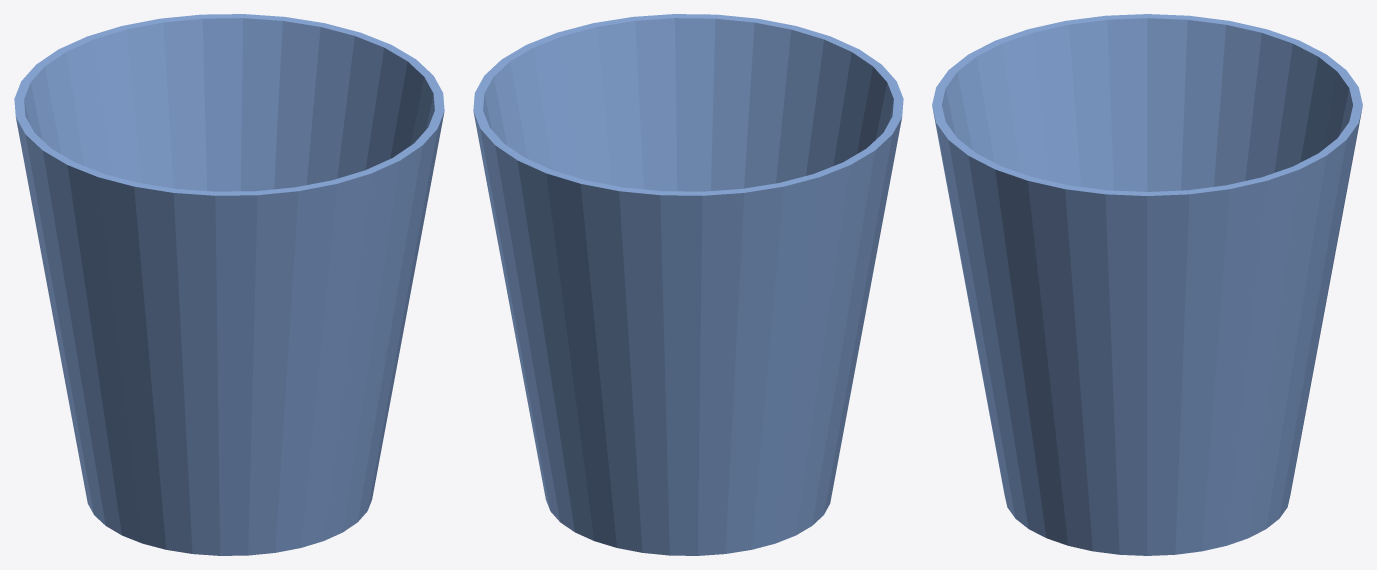
The model's file is glass.fbx.
3 renders of one model, left to right at view 1: azimuth 30°, elevation 25°; view 2: azimuth 150°, elevation 25°; view 3: azimuth 270°, elevation 25°, orthographic.
Parts seen in each view (by area): view 1: Cylinder; view 2: Cylinder; view 3: Cylinder.
Part boxes in pixels (<box>): Cylinder: <box>14,14,444,555</box>; Cylinder: <box>473,14,903,555</box>; Cylinder: <box>932,14,1362,555</box>.
Bounding box in the file's own units: 76.93 × 76.93 × 76.93.
